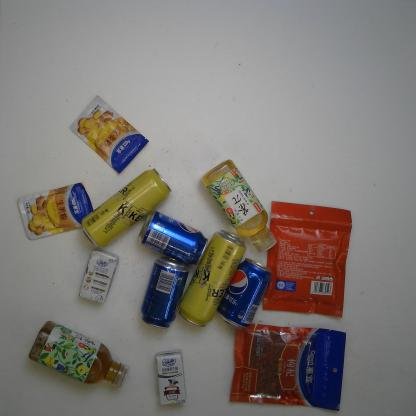Alcohol: (81, 168, 172, 249), (178, 230, 246, 326)
Dried Fruit: (229, 320, 346, 412), (262, 202, 353, 318)
Drink: (201, 159, 277, 254), (28, 320, 130, 388), (139, 209, 208, 265), (217, 258, 272, 328), (140, 256, 190, 328)
Milk: (79, 249, 119, 305), (155, 349, 187, 406)
Seasoner: (69, 95, 150, 174), (18, 181, 100, 240)
